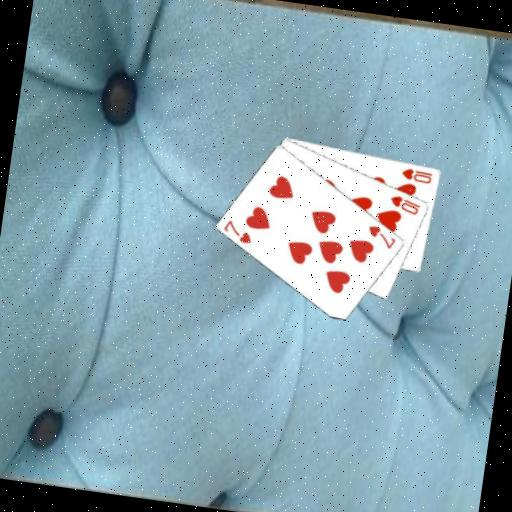10H: (385, 192, 423, 217), (398, 164, 435, 186)
7H: (363, 221, 400, 251), (219, 216, 256, 246)
